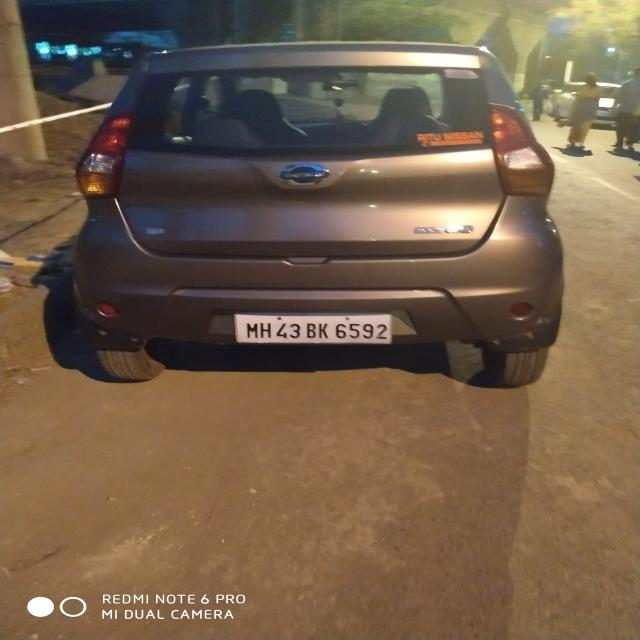Number-Plate: (237, 314, 389, 342)
